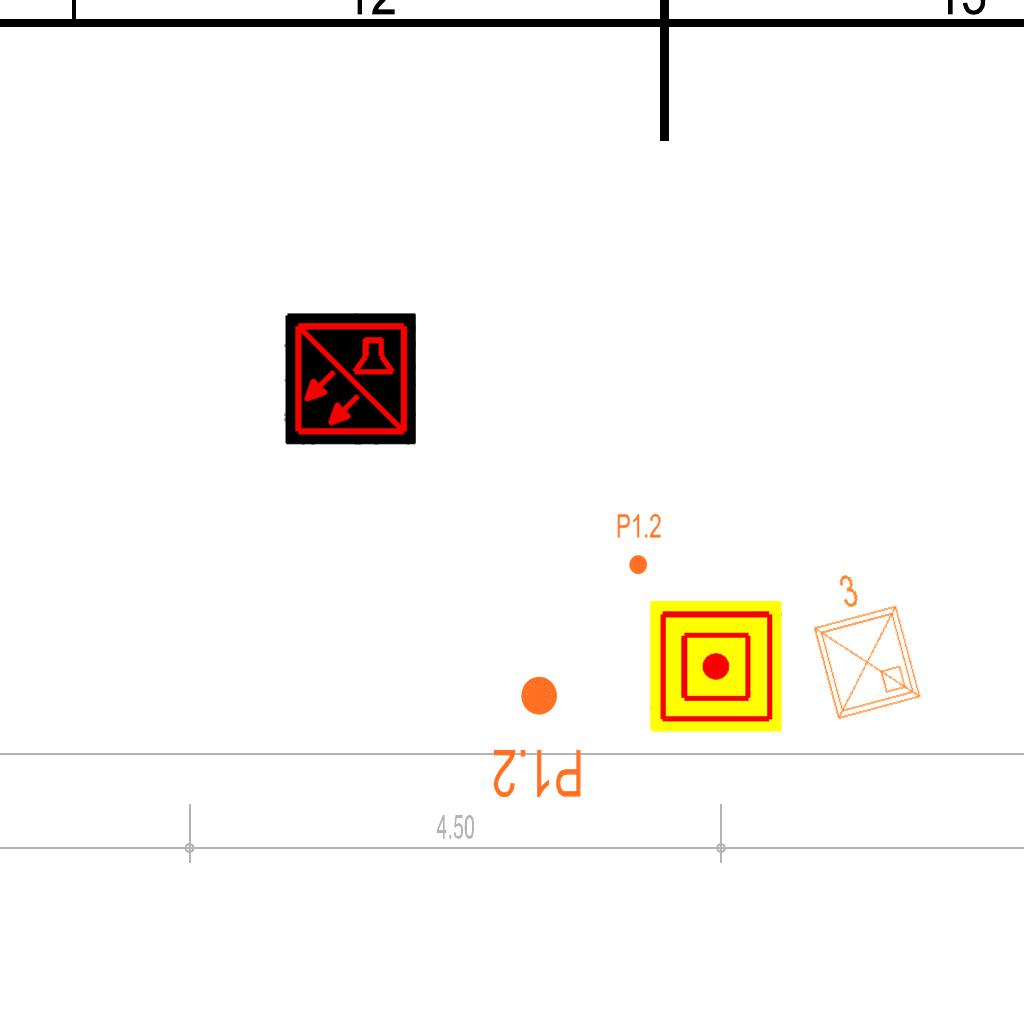Downlight_LED_Einbauleuchten_Flur: (491, 673, 584, 801), (616, 512, 662, 576)
Einbaudownlights_LED_Konferenzraeume: (790, 557, 930, 729)
NAM-Nichtautomatischer_Melder: (650, 600, 782, 732)
OKW_Multisensormelder_(Kombination_optischer_Rauch-Kahlenmonoxid_Waerme-Melder): (284, 313, 416, 445)
